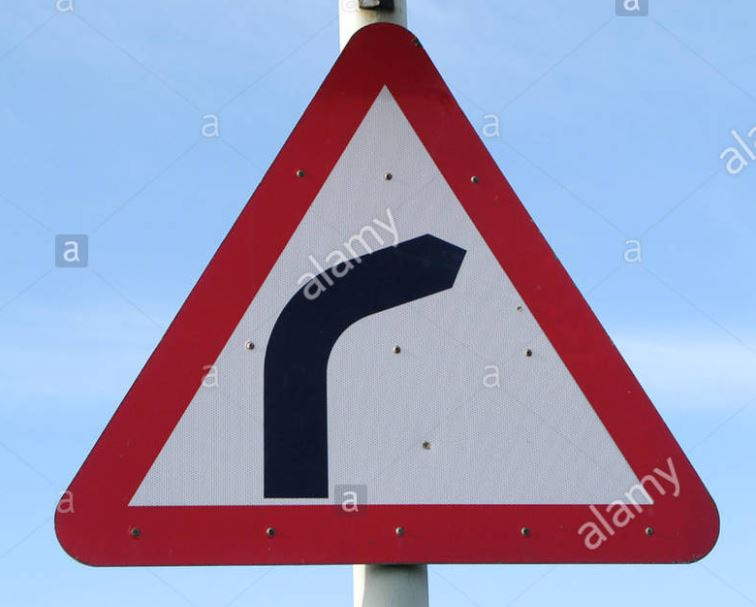Bend_to_right: (44, 20, 732, 569)
